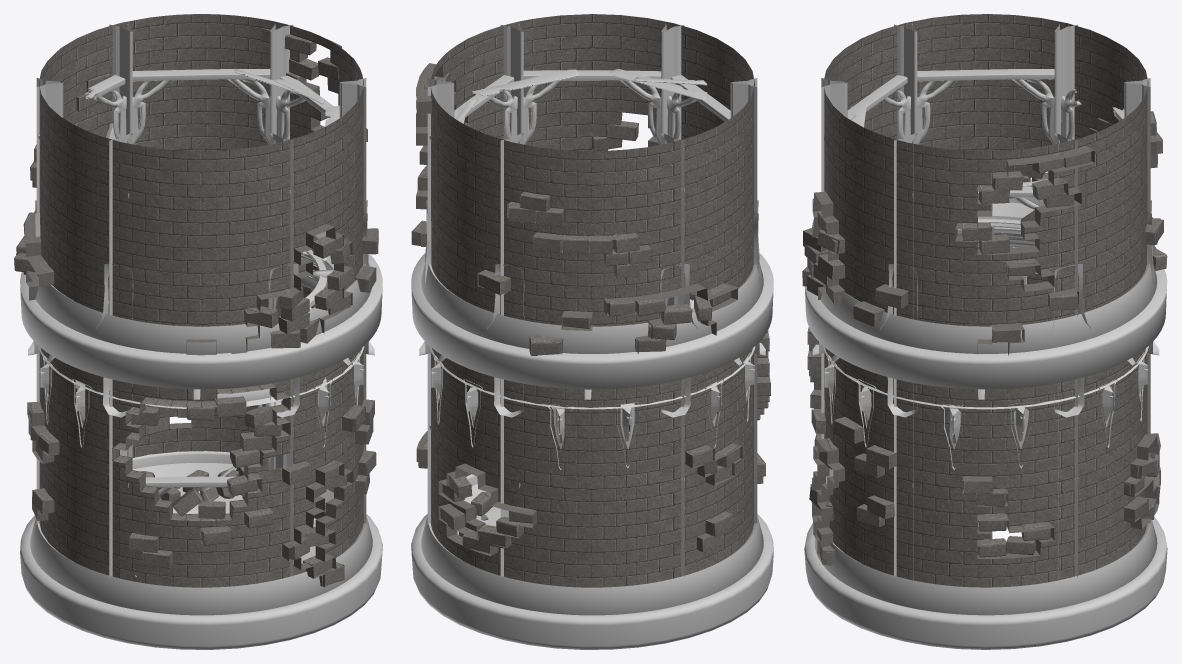
The model's file is CrucibleTransition_B.fbx.
3 views of the same model, side by side, from view 1: azimuth 30°, elevation 25°; view 2: azimuth 150°, elevation 25°; view 3: azimuth 270°, elevation 25° (orthographic).
Visible parts, largest first — view 1: CrucibleTransition_B_StructureUpper, CrucibleTransition_B_StructureLower, CrucibleTransition_RingSupportC, CrucibleTransition_RingSupportA, CrucibleTransitionPillarA_4, CrucibleTransitionPillarA_5, CrucibleTransitionPillarA_7, CrucibleTransitionPillarA_2, CrucibleTransitionPillarA_6, CrucibleTransitionPillarA_3, CrucibleTransition_WindowsA_1, CrucibleTransition_WindowsA_5 (+1 smaller); view 2: CrucibleTransition_B_StructureUpper, CrucibleTransition_B_StructureLower, CrucibleTransition_RingSupportC, CrucibleTransition_RingSupportA, CrucibleTransitionPillarA_6, CrucibleTransitionPillarA_7, CrucibleTransitionPillarA_5, CrucibleTransitionPillarA_2, CrucibleTransitionPillarA_3, CrucibleTransitionPillarA_4, CrucibleTransition_WindowsA_2, CrucibleTransition_WindowsA_3 (+1 smaller); view 3: CrucibleTransition_B_StructureUpper, CrucibleTransition_B_StructureLower, CrucibleTransition_RingSupportA, CrucibleTransition_RingSupportC, CrucibleTransitionPillarA_2, CrucibleTransitionPillarA_3, CrucibleTransitionPillarA_5, CrucibleTransitionPillarA_7, CrucibleTransitionPillarA_6, CrucibleTransitionPillarA_4, CrucibleTransition_WindowsA_4, CrucibleTransition_WindowsA_3 (+1 smaller).
Part boxes in pixels (x1,y1,x2,y2): CrucibleTransition_B_StructureUpper: (14, 14, 378, 355); CrucibleTransition_B_StructureLower: (27, 265, 376, 587); CrucibleTransition_RingSupportC: (20, 451, 382, 649); CrucibleTransition_RingSupportA: (20, 231, 382, 408); CrucibleTransitionPillarA_4: (85, 22, 270, 144); CrucibleTransitionPillarA_5: (227, 23, 333, 407); CrucibleTransitionPillarA_7: (128, 133, 299, 576); CrucibleTransitionPillarA_2: (38, 133, 180, 577); CrucibleTransitionPillarA_6: (289, 78, 374, 524); CrucibleTransitionPillarA_3: (28, 78, 63, 524); CrucibleTransition_WindowsA_1: (39, 355, 91, 447); CrucibleTransition_WindowsA_5: (314, 352, 363, 447); CrucibleTransition_B_StructureUpper: (411, 14, 754, 355); CrucibleTransition_B_StructureLower: (416, 291, 770, 587); CrucibleTransition_RingSupportC: (411, 474, 773, 649); CrucibleTransition_RingSupportA: (411, 253, 773, 409); CrucibleTransitionPillarA_6: (472, 23, 661, 144); CrucibleTransitionPillarA_7: (609, 23, 730, 144); CrucibleTransitionPillarA_5: (419, 75, 514, 524); CrucibleTransitionPillarA_2: (681, 78, 765, 524); CrucibleTransitionPillarA_3: (519, 133, 697, 576); CrucibleTransitionPillarA_4: (429, 133, 527, 576); CrucibleTransition_WindowsA_2: (547, 402, 641, 469); CrucibleTransition_WindowsA_3: (431, 355, 482, 447); CrucibleTransition_B_StructureUpper: (802, 14, 1167, 355); CrucibleTransition_B_StructureLower: (807, 246, 1160, 587); CrucibleTransition_RingSupportA: (804, 197, 1167, 409); CrucibleTransition_RingSupportC: (804, 517, 1167, 649); CrucibleTransitionPillarA_2: (882, 23, 1054, 144); CrucibleTransitionPillarA_3: (1012, 23, 1081, 144); CrucibleTransitionPillarA_5: (912, 133, 1090, 579); CrucibleTransitionPillarA_7: (812, 75, 907, 483); CrucibleTransitionPillarA_6: (824, 133, 923, 579); CrucibleTransitionPillarA_4: (1074, 78, 1159, 523); CrucibleTransition_WindowsA_4: (941, 402, 1034, 469); CrucibleTransition_WindowsA_3: (1099, 352, 1148, 447).
Bounding box in the file's own units: 3602 × 5393 × 3621.
